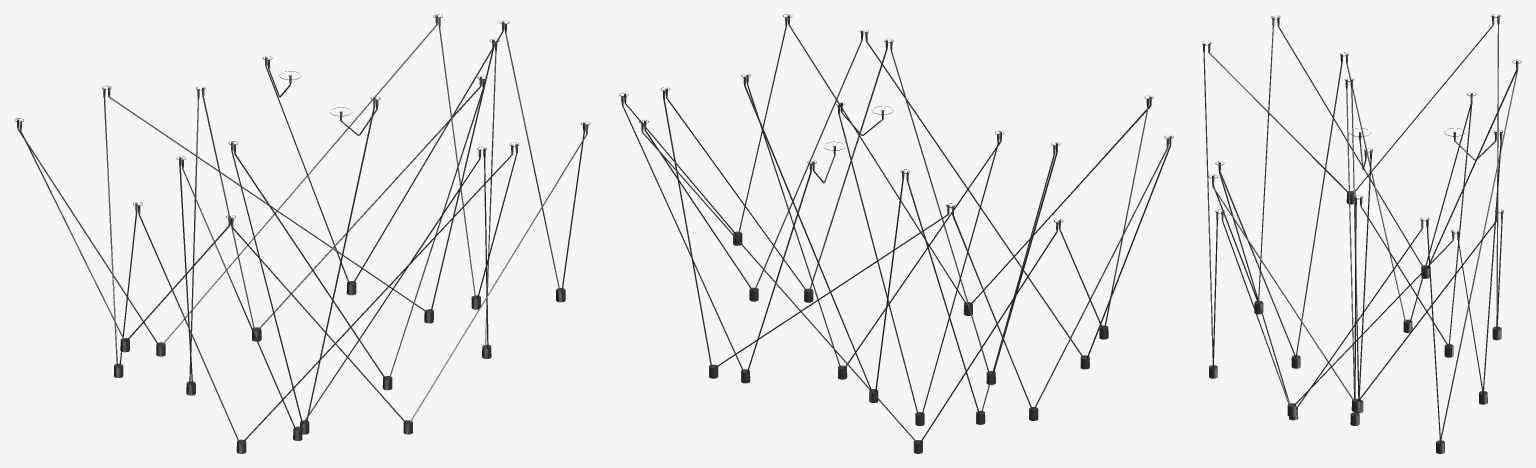
File: lighting_pendant_light_8bcf23dc-2c8b-51d1-8cc3-aad4a1b9a933.glb
The picture shows the model from 3 angles, left to right: view 1: azimuth 30°, elevation 25°; view 2: azimuth 150°, elevation 25°; view 3: azimuth 270°, elevation 25°; orthographic projection. The views are drawn at different scales.
Visible parts, largest first — view 1: raw_model.obj; view 2: raw_model.obj; view 3: raw_model.obj.
Part boxes in pixels (<box>): raw_model.obj: <box>14,14,590,453</box>; raw_model.obj: <box>619,14,1173,453</box>; raw_model.obj: <box>1202,14,1521,453</box>.
Size of the model in its own units: 1.65 by 1.04 by 1.02.
Materials: 1 (1 with a texture image).
